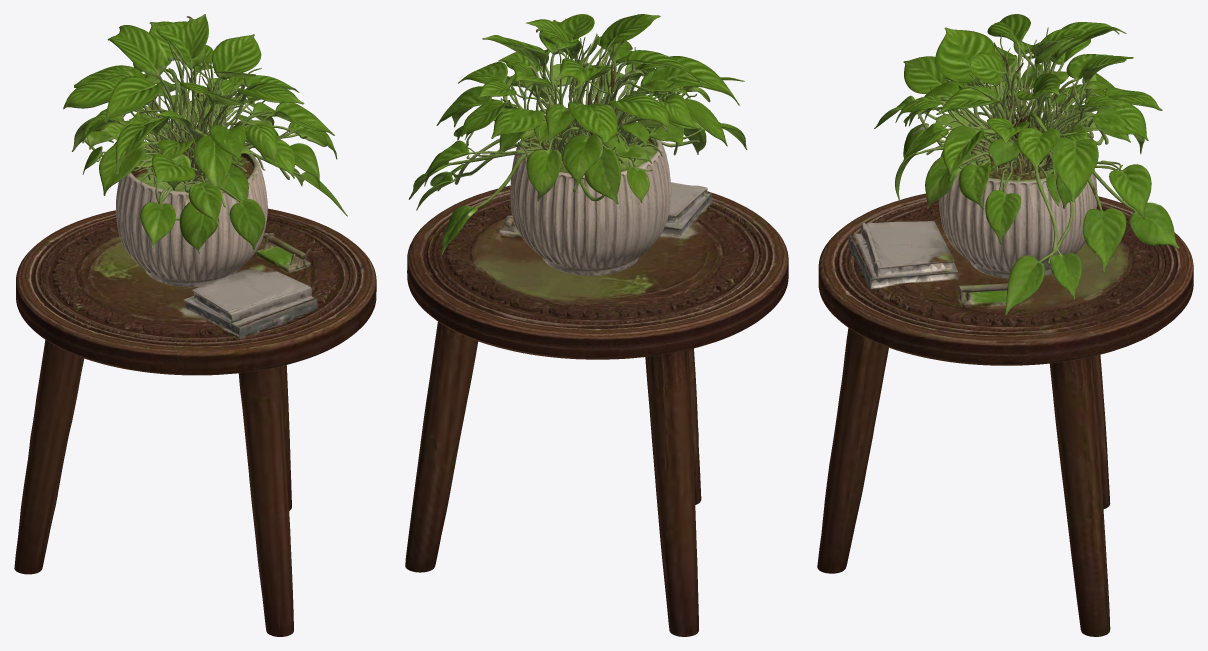
The model's file is daxtanar-solid-wood-round-coffee-table-for-living-room-handm.glb.
The picture shows the model from 3 angles, left to right: view 1: azimuth 30°, elevation 25°; view 2: azimuth 150°, elevation 25°; view 3: azimuth 270°, elevation 25°; orthographic projection. The views are drawn at different scales.
Bounding box in the file's own units: 1.19 × 1.9 × 1.19.
Materials: 1 (1 with a texture image).
